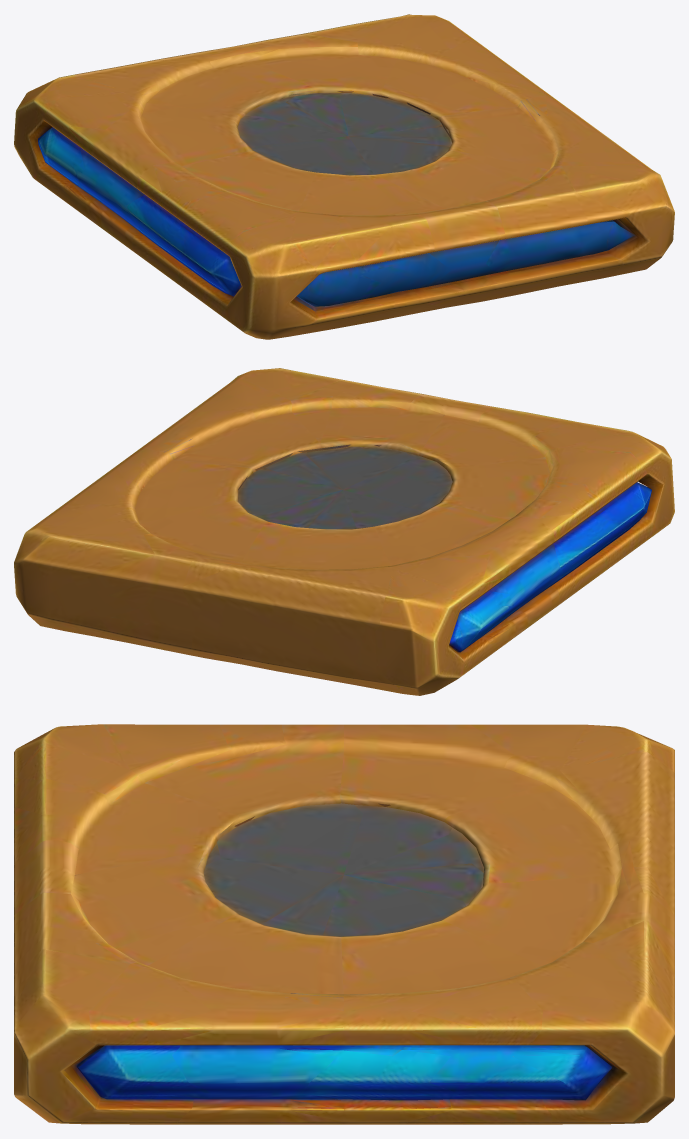
The model's file is plaque_blue.glb.
3 views of the same model, one above another, from view 1: azimuth 30°, elevation 25°; view 2: azimuth 150°, elevation 25°; view 3: azimuth 270°, elevation 25° (orthographic). The views are drawn at different scales.
Visible parts, largest first — view 1: tripo_node_14d4d9d7-2969-41c0-9a70-230d5d6d50fc; view 2: tripo_node_14d4d9d7-2969-41c0-9a70-230d5d6d50fc; view 3: tripo_node_14d4d9d7-2969-41c0-9a70-230d5d6d50fc.
Boxes of the visible parts, left/top/right/bottom form: tripo_node_14d4d9d7-2969-41c0-9a70-230d5d6d50fc: left=14, top=14, right=674, bottom=339; tripo_node_14d4d9d7-2969-41c0-9a70-230d5d6d50fc: left=14, top=368, right=674, bottom=695; tripo_node_14d4d9d7-2969-41c0-9a70-230d5d6d50fc: left=14, top=724, right=674, bottom=1124.
Bounding box in the file's own units: 0.998 × 0.2559 × 0.998.
1 material, 1 textured.
